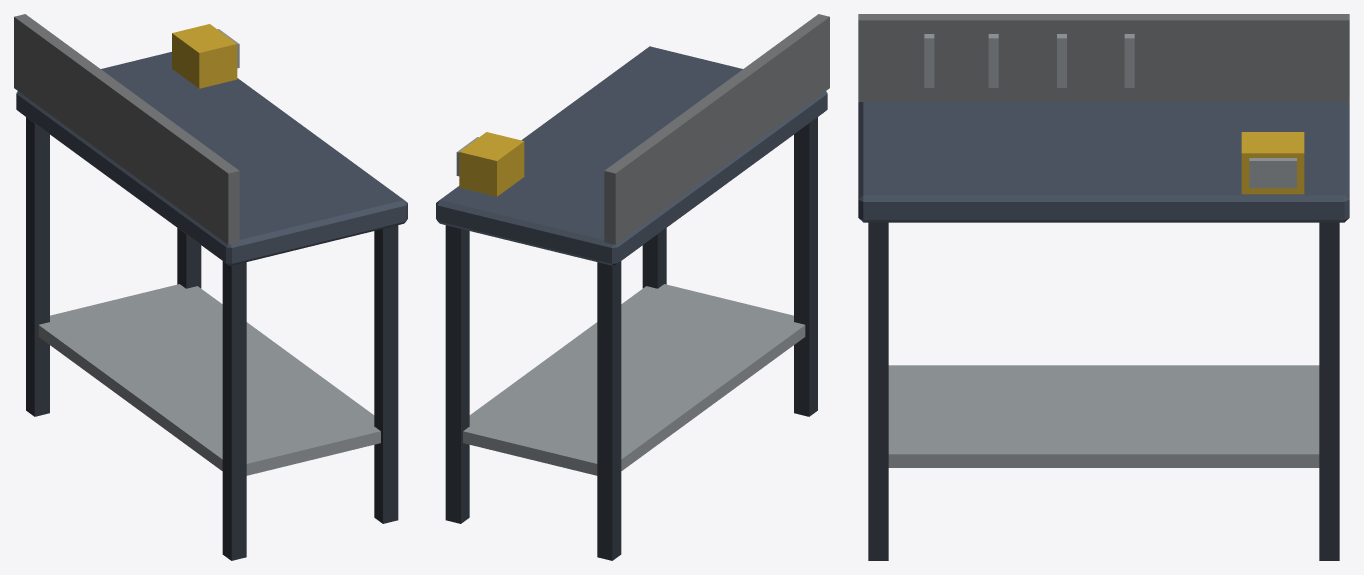
File: crafting_bench.obj
The picture shows the model from 3 angles, left to right: view 1: azimuth 30°, elevation 25°; view 2: azimuth 150°, elevation 25°; view 3: azimuth 270°, elevation 25°; orthographic projection. The views are drawn at different scales.
Parts seen in each view (by area): view 1: body; view 2: body; view 3: body.
Boxes of the visible parts, left/top/right/bottom form: body: left=14, top=14, right=407, bottom=560; body: left=436, top=14, right=829, bottom=560; body: left=858, top=14, right=1349, bottom=560.
Bounding box in the file's own units: 0.96 × 1.98 × 1.96.
